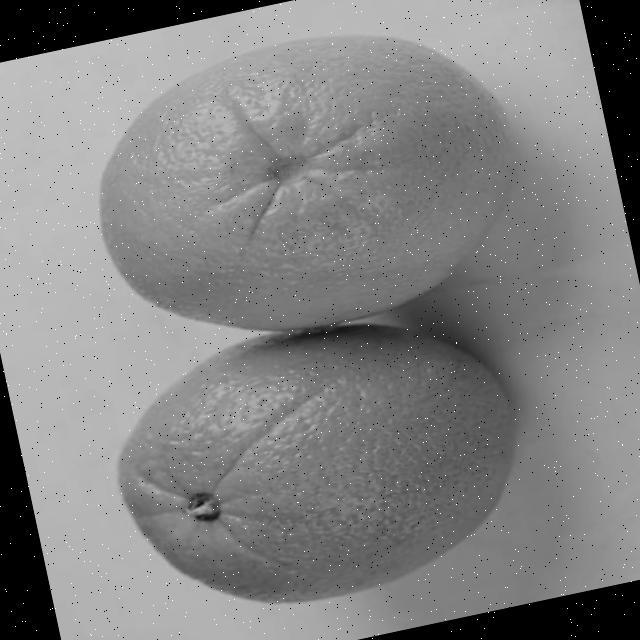Ripe: (60, 0, 546, 375), (88, 293, 548, 638)
